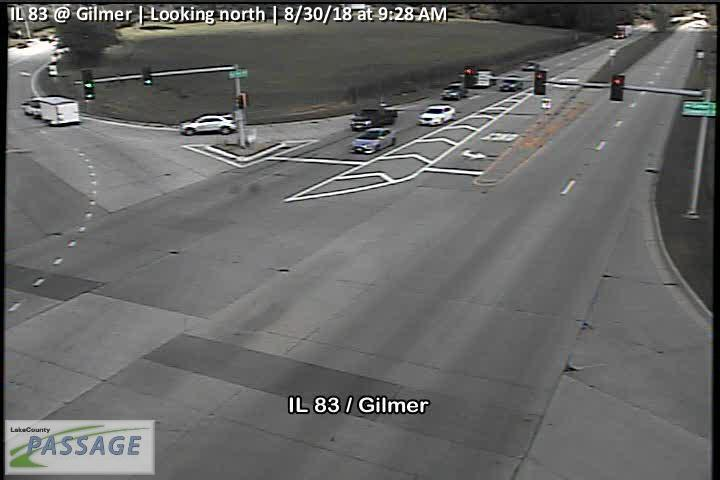SUV: (178, 114, 238, 135)
Sedan: (351, 128, 394, 155), (415, 104, 456, 126), (498, 75, 524, 91), (439, 89, 462, 100)
Truck: (30, 96, 80, 127)
